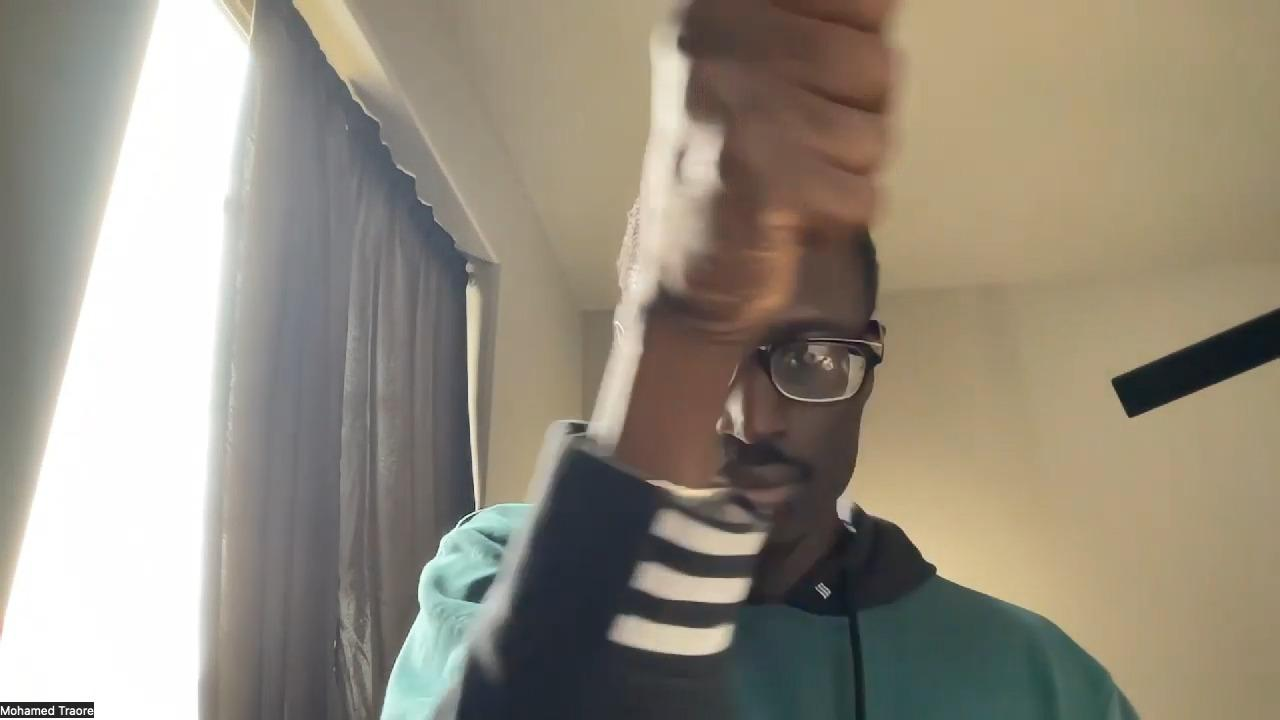Rock: (620, 0, 908, 345)
